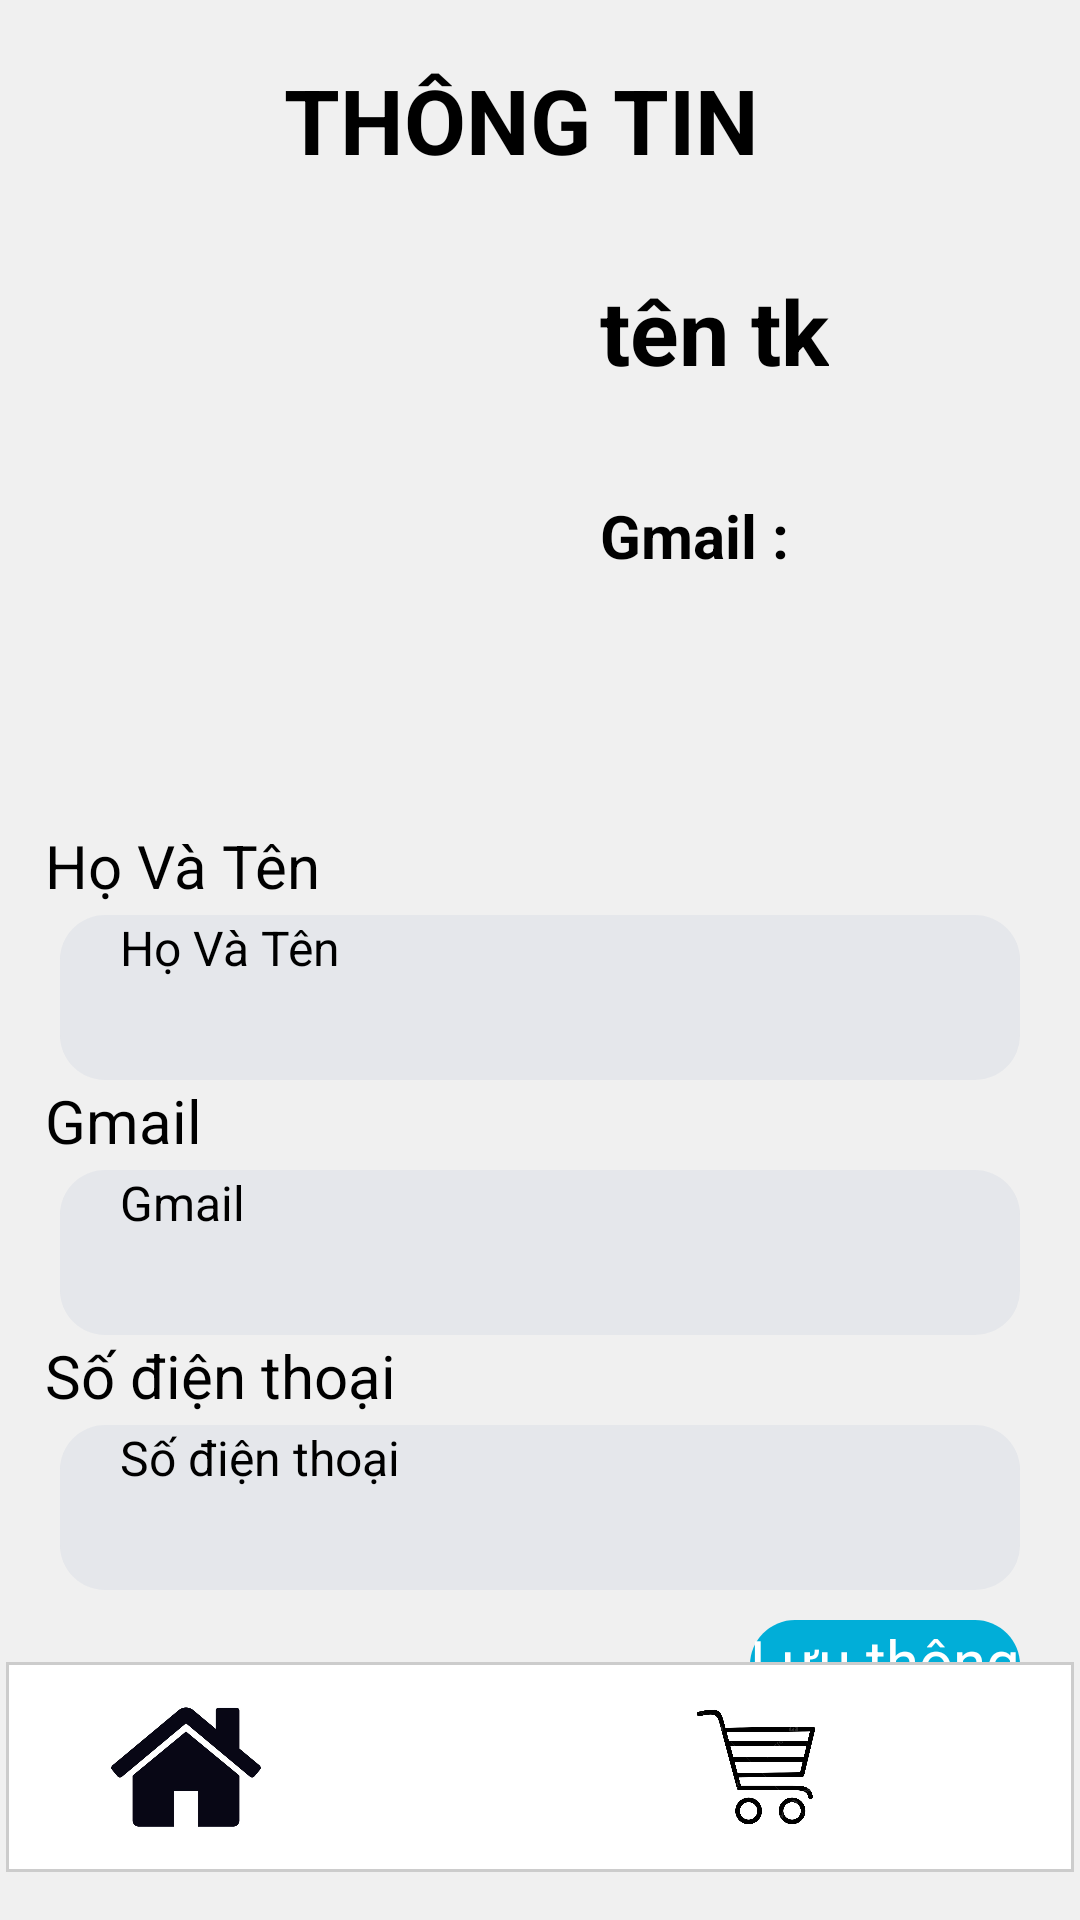

Where to tap for icons on this 1080*1920 app screen, as [x,y]:
gio hang: [756,1767]
home: [186,1767]
